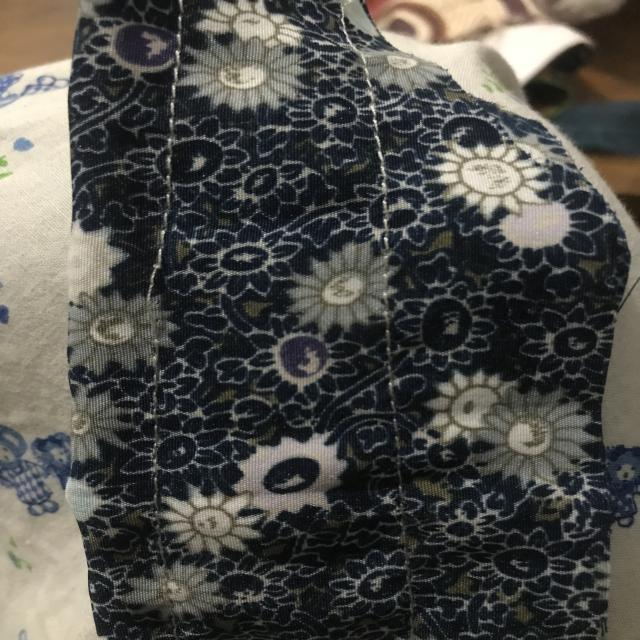skip: (130, 250, 178, 348)
